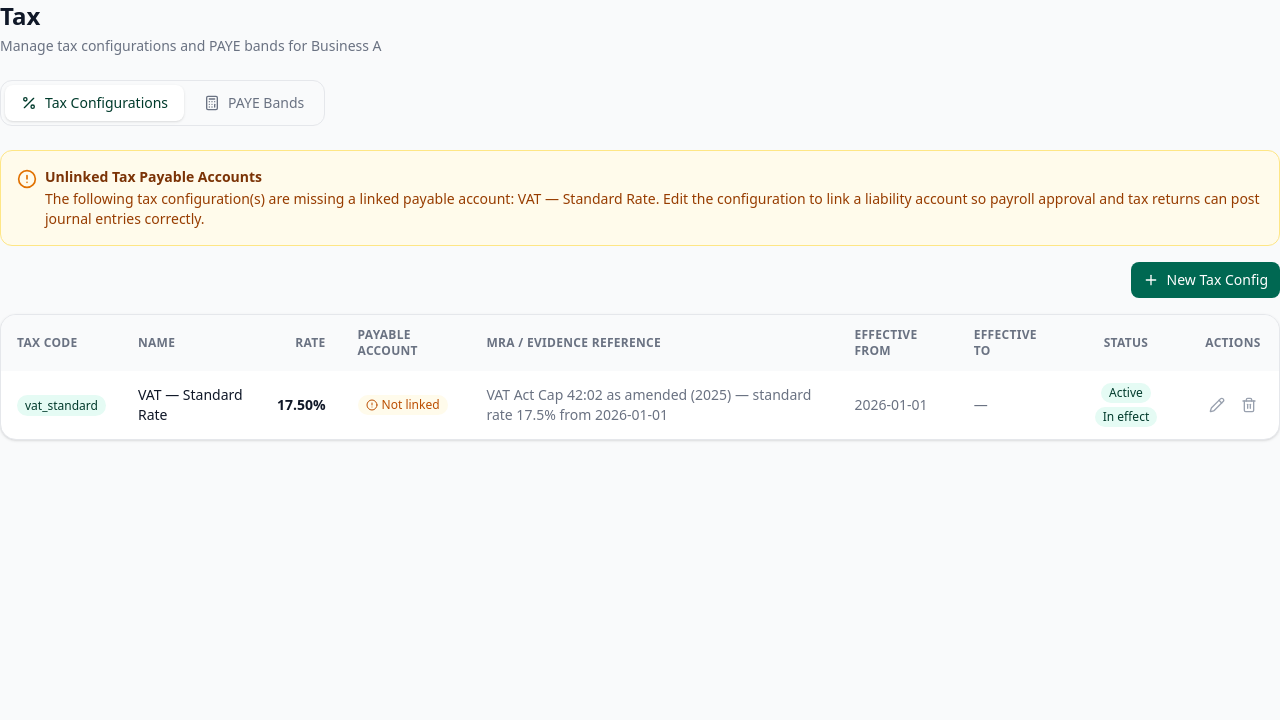
Test: tax configurations — editing a stored period › sends one update for the stored row and nothing else
Expected: the text "vat_standard" is shown, x1=17 y1=395 x2=106 y2=416
Click the button named "Edit VAT — Standard Rate": (1217, 405) x1=1203 y1=391 x2=1231 y2=419
(page scrolled)
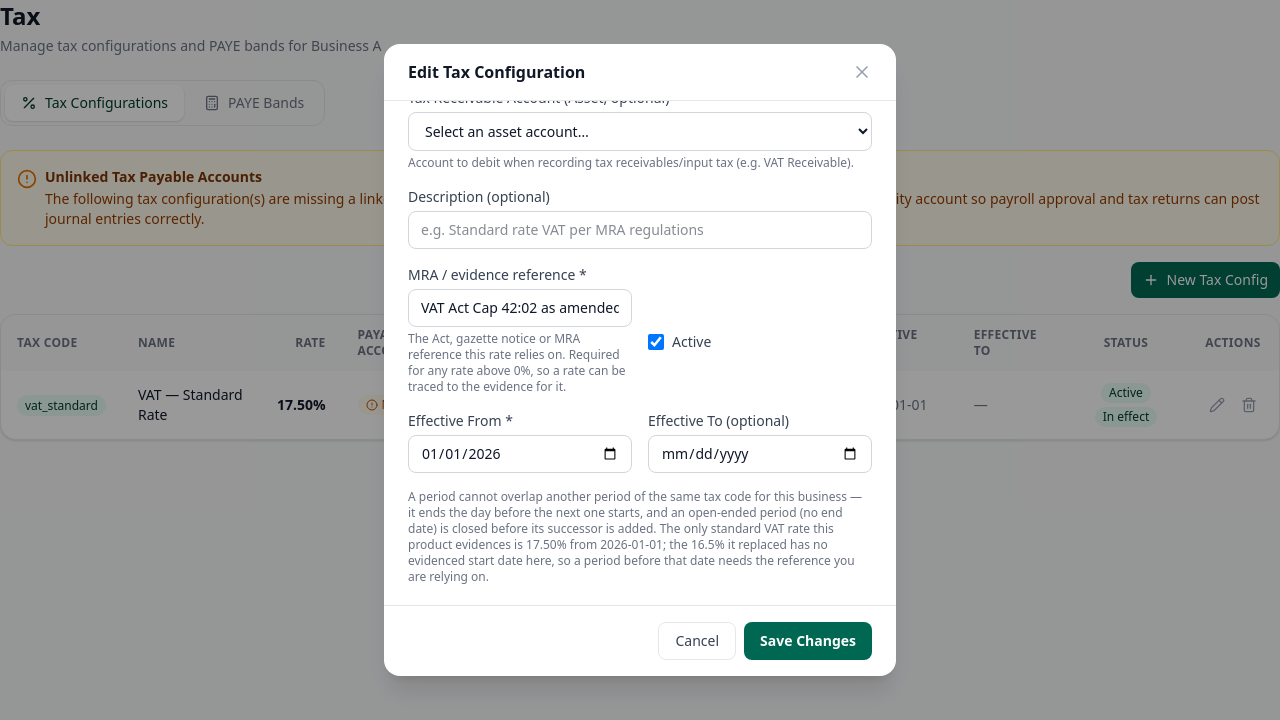
Result: the date field labelled "Effective From *" holds "2026-01-01"
In the date field labelled "Effective From *": (520, 454) x1=408 y1=435 x2=632 y2=473, type "2026-02-01"
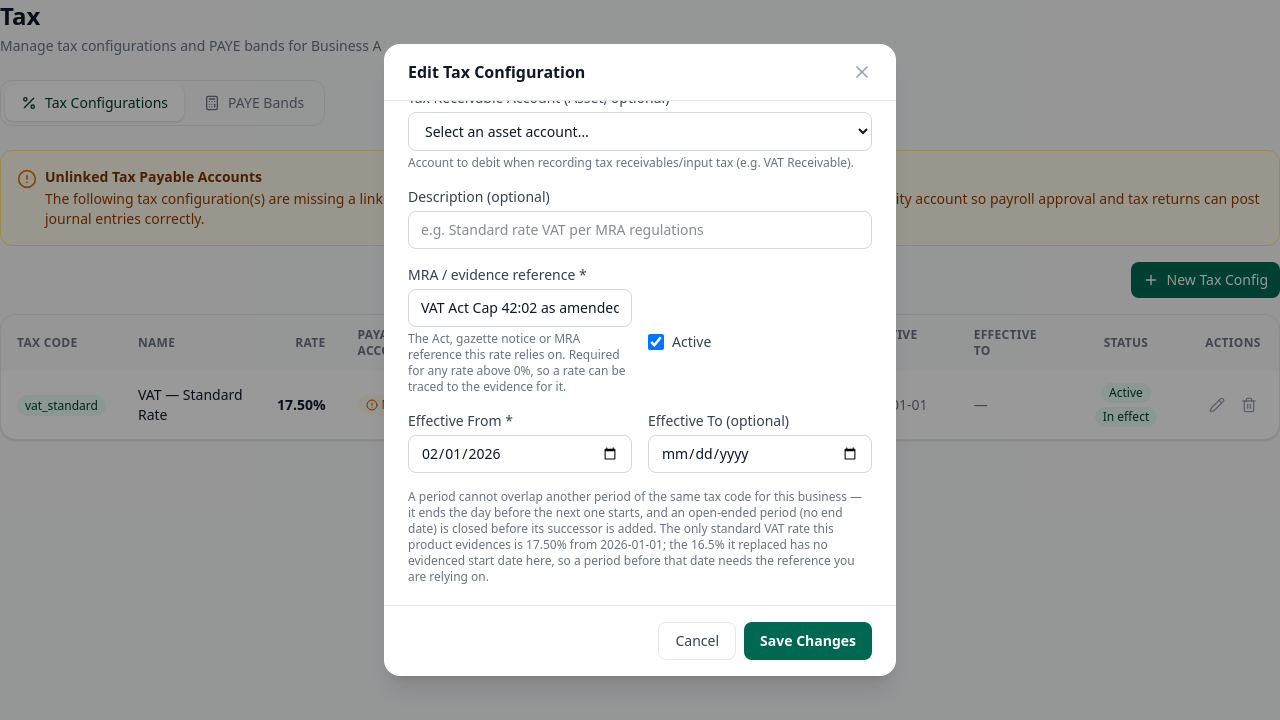
Click the button "Save Changes": (808, 641) x1=744 y1=622 x2=872 y2=660
(page scrolled)
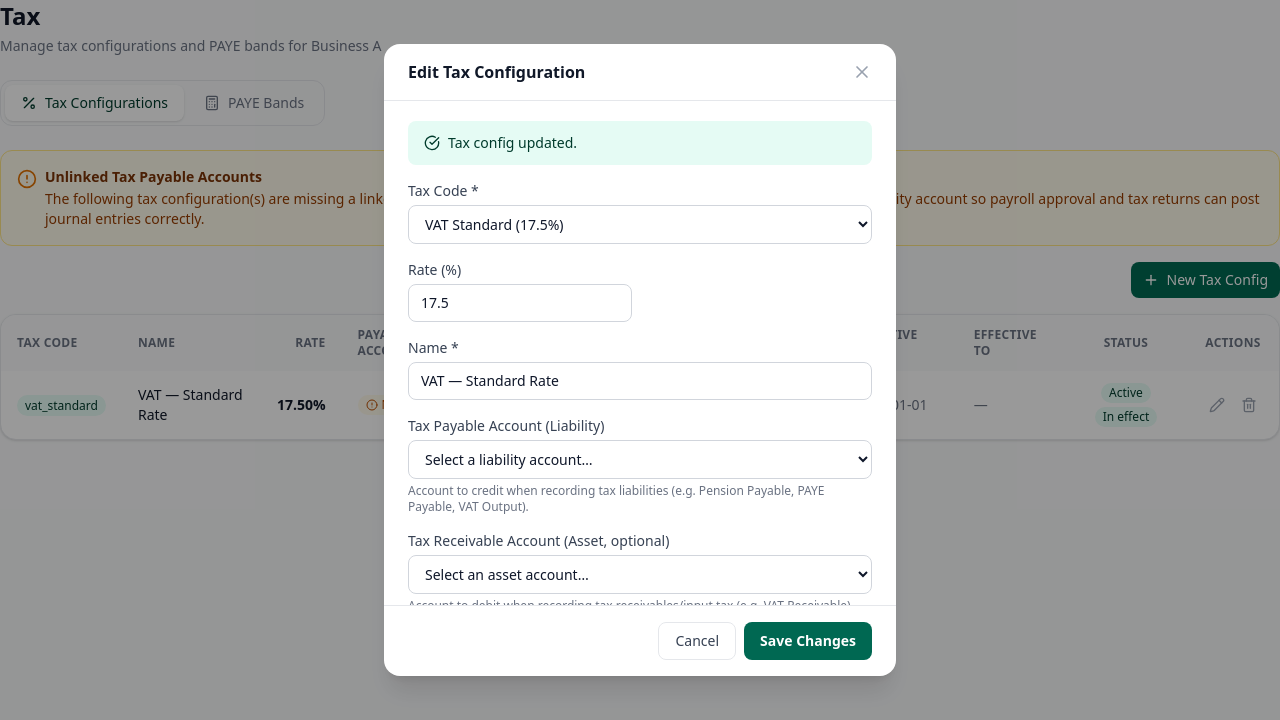
Result: the text "Tax config updated." is shown at x1=408 y1=121 x2=872 y2=165
